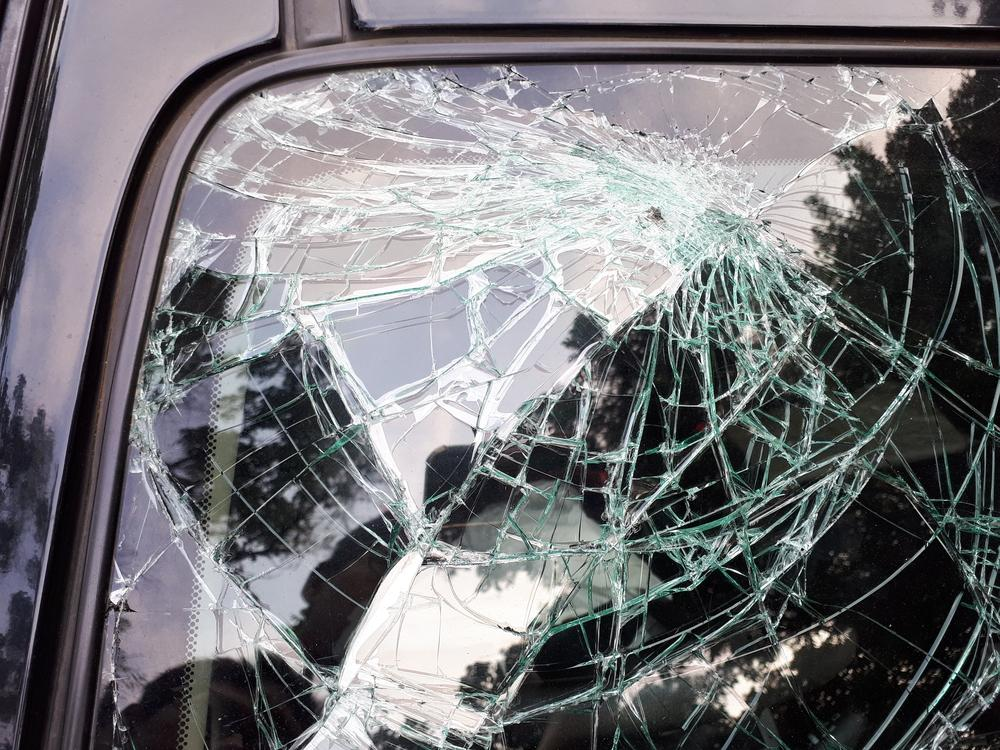glass shatter: (89, 63, 1000, 750)
